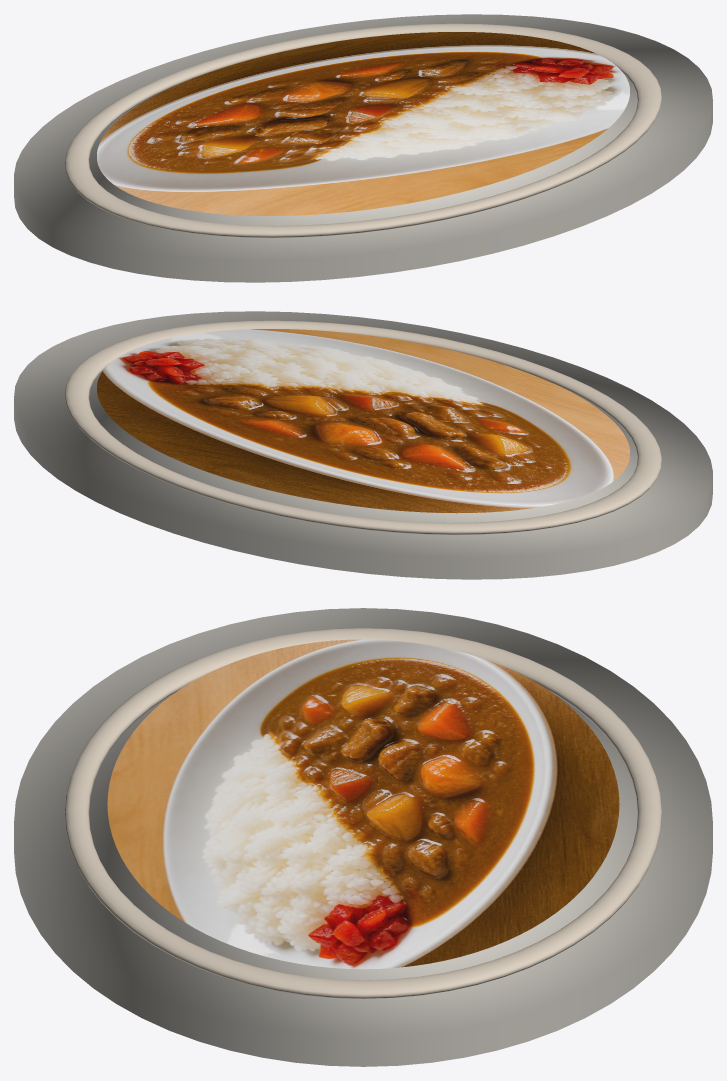
File: beef_curry.glb
3 renders of one model, top to bottom at view 1: azimuth 30°, elevation 25°; view 2: azimuth 150°, elevation 25°; view 3: azimuth 270°, elevation 25°, orthographic. The views are drawn at different scales.
Size of the model in its own units: 2.5 by 0.185 by 1.72.
3 materials, 1 textured.
